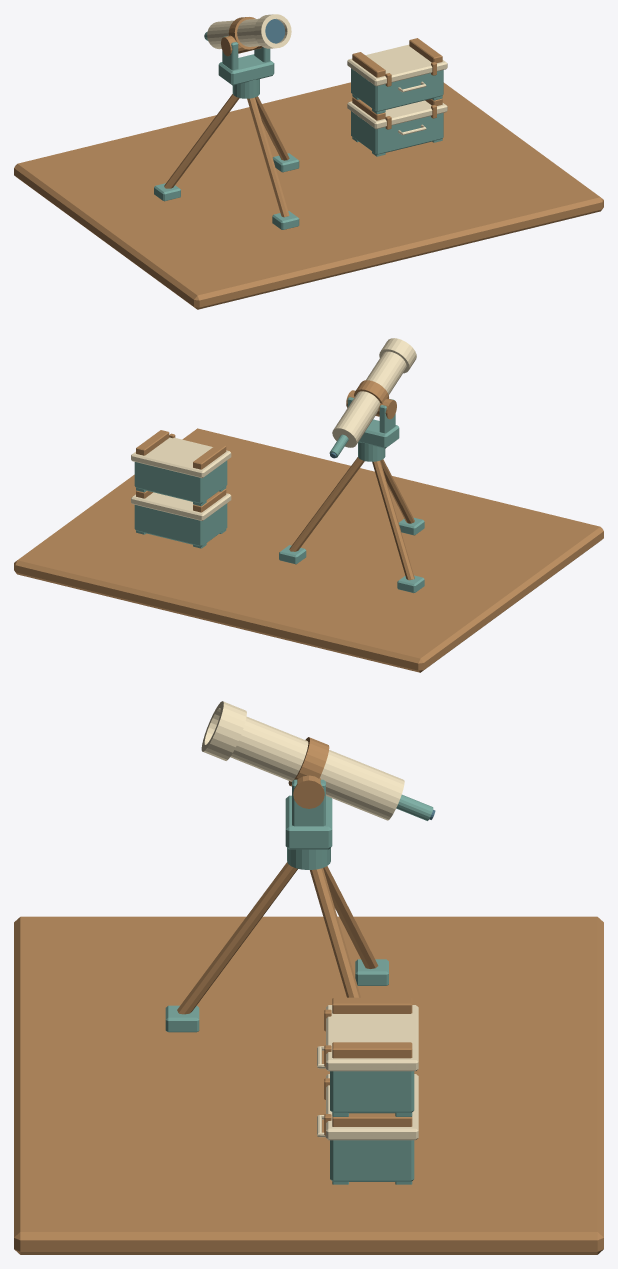
The picture shows the model from 3 angles, top to bottom: view 1: azimuth 30°, elevation 25°; view 2: azimuth 150°, elevation 25°; view 3: azimuth 270°, elevation 25°; orthographic projection. The views are drawn at different scales.
Visible parts, largest first — view 1: astronomy-observing-corner-scene-01; view 2: astronomy-observing-corner-scene-01; view 3: astronomy-observing-corner-scene-01.
Boxes of the visible parts, x1=… form: astronomy-observing-corner-scene-01: x1=14, y1=14, x2=603, y2=309; astronomy-observing-corner-scene-01: x1=14, y1=338, x2=603, y2=672; astronomy-observing-corner-scene-01: x1=14, y1=701, x2=603, y2=1254.
Size of the model in its own units: 3.6 by 1.8 by 2.8.
